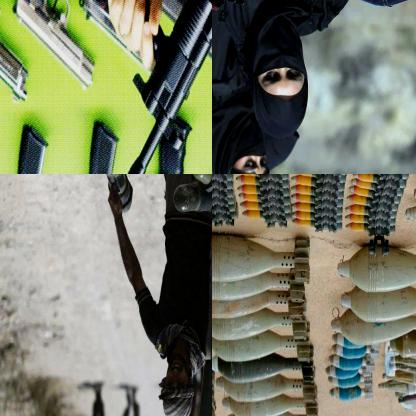pistol: (12, 0, 97, 89), (77, 0, 155, 74), (73, 120, 149, 173), (144, 115, 211, 173), (0, 118, 70, 173)
rifle: (105, 0, 211, 173)
